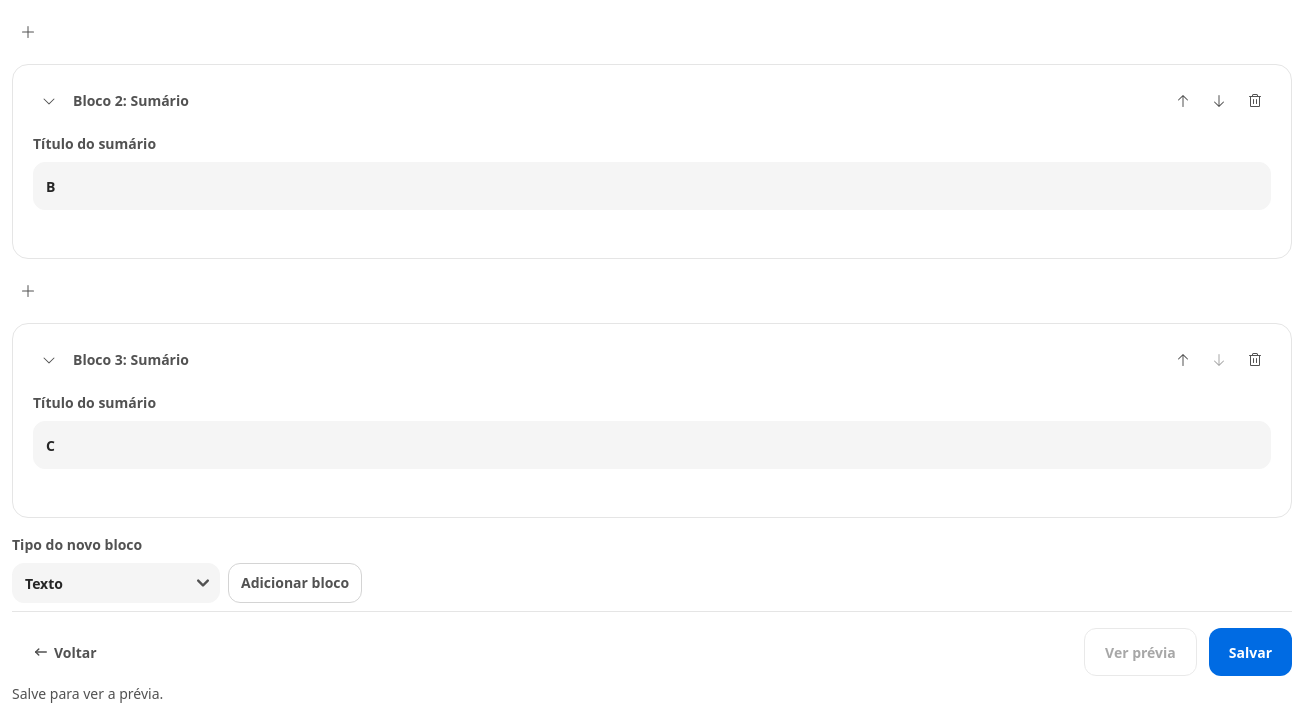
Test: desfazer a remoção de bloco (#112) › salvar descarta o desfazer
(page scrolled)
Click the button named "Remover bloco 3" at (1255, 360), box [1239, 344, 1271, 376]
(page scrolled)
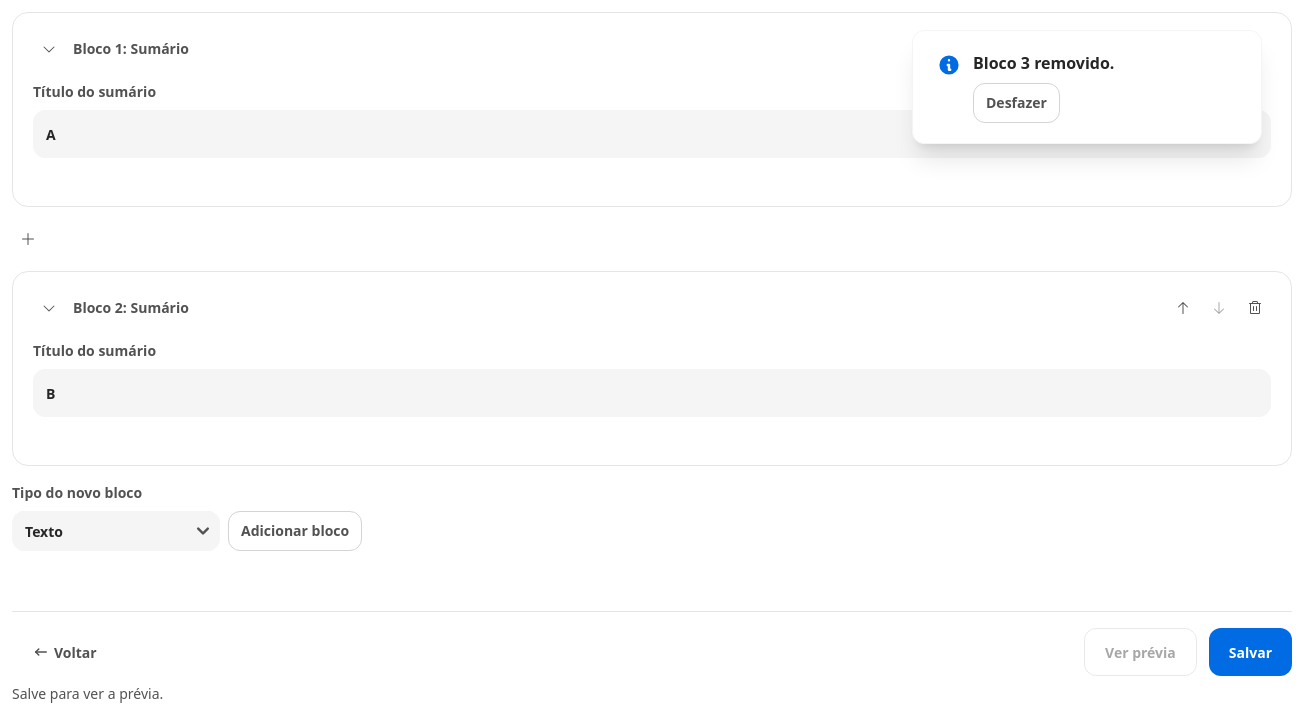
Click the button "Salvar" at (1250, 652), box [1209, 628, 1292, 676]
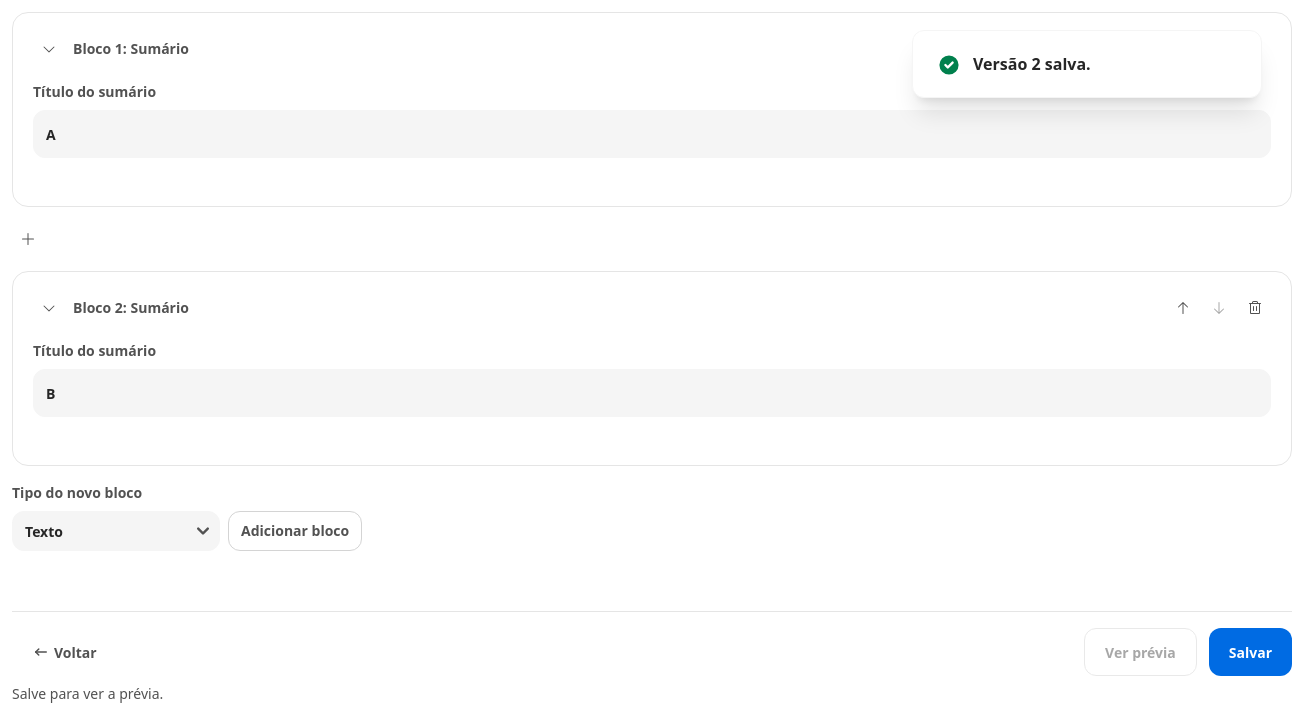
Expected: the text "Versão 2 salva." is shown, [973, 52, 1091, 76]
Expected: the button "Desfazer" is gone
